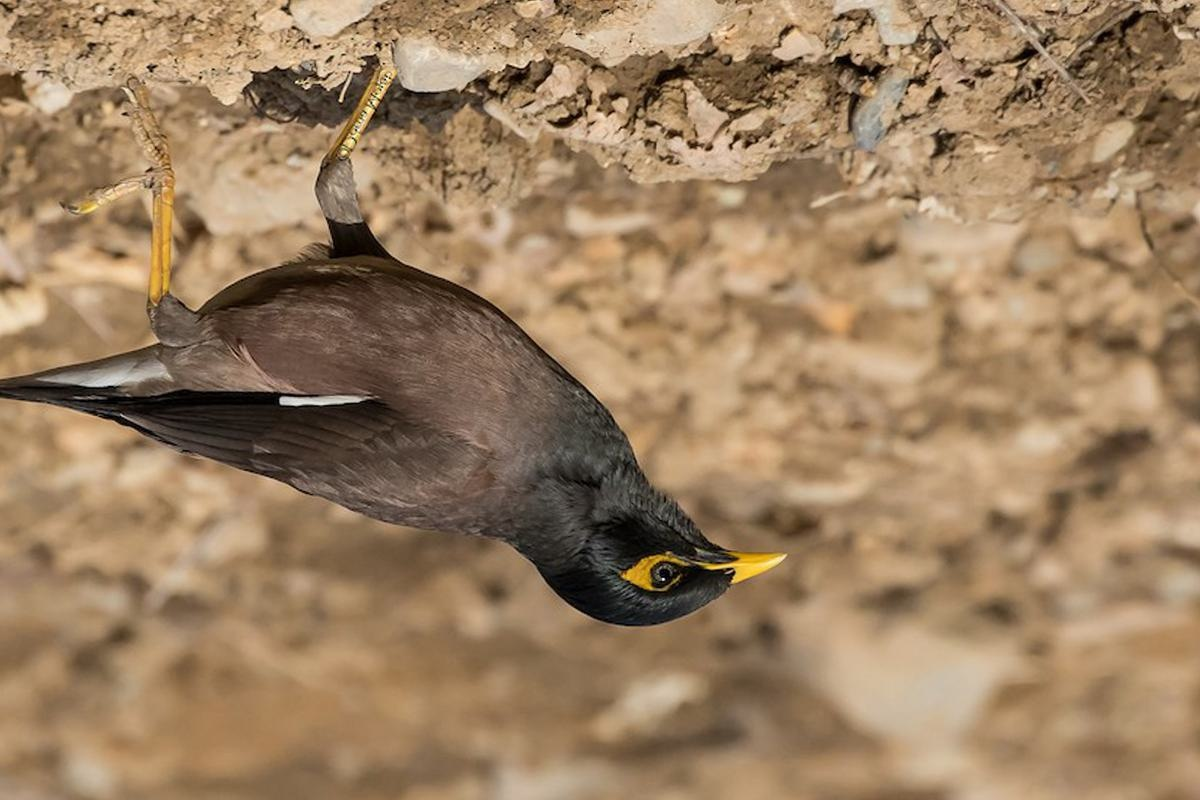myna: (117, 126, 799, 657)
